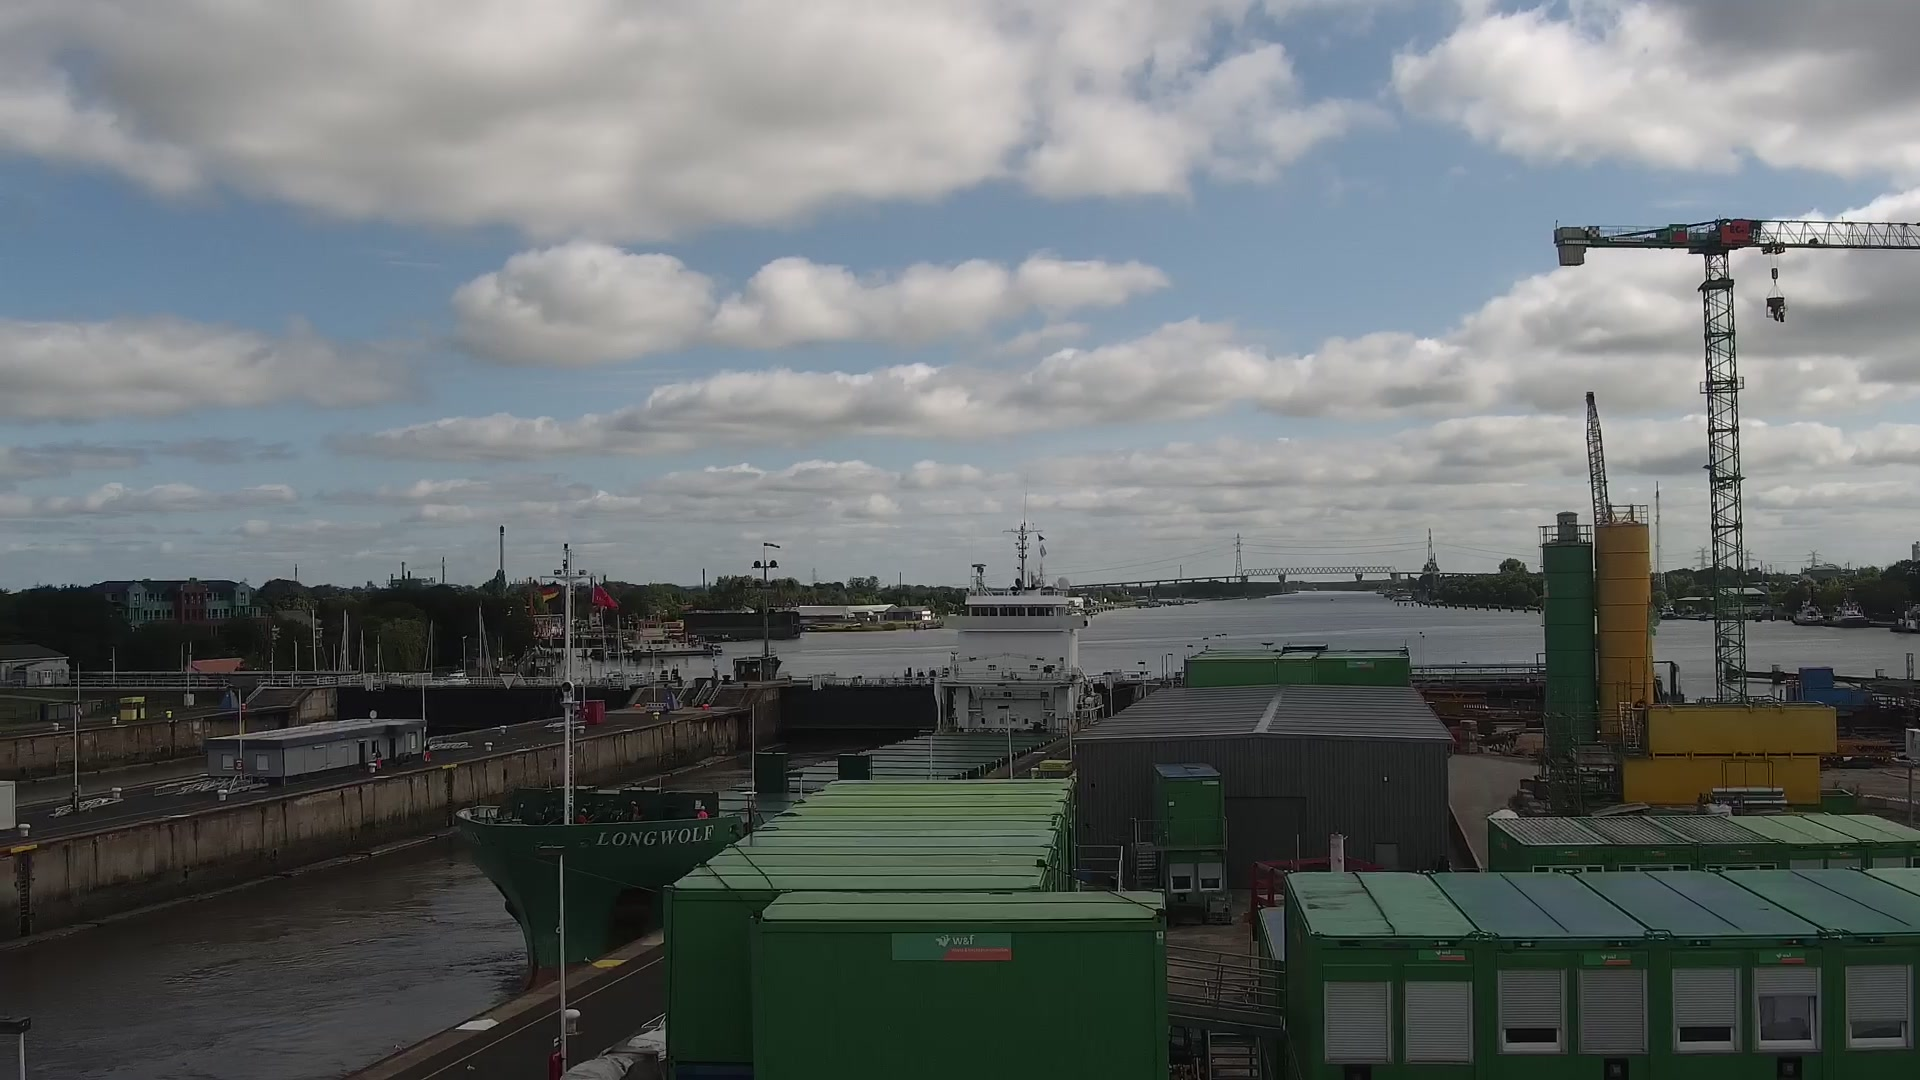human: (575, 808, 587, 825), (629, 801, 638, 821), (374, 747, 382, 768), (697, 805, 708, 819), (424, 741, 431, 761)
sea: (454, 521, 1104, 989), (604, 613, 726, 658), (1823, 596, 1869, 627), (1890, 600, 1920, 634), (1791, 597, 1825, 626), (1660, 600, 1675, 619)
